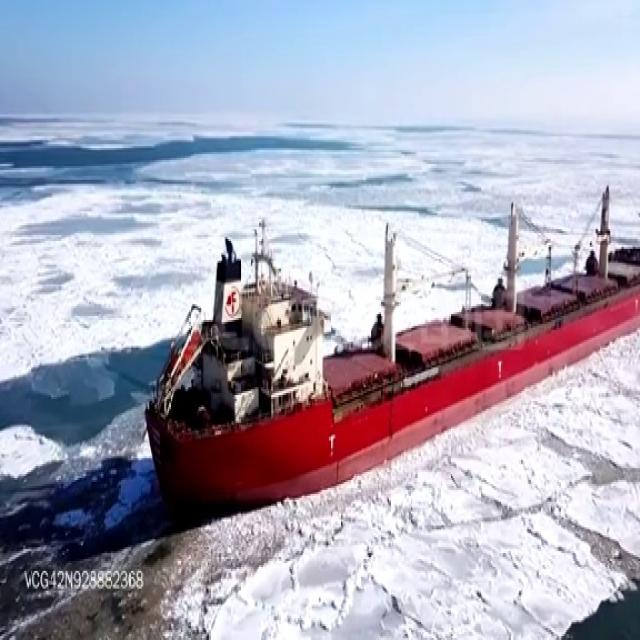cargoship: (135, 184, 640, 484)
